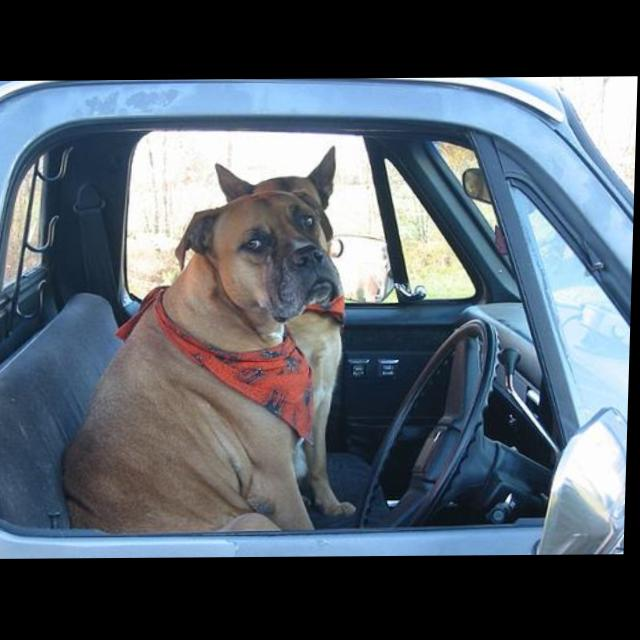bullmastiff: (65, 191, 347, 537)
